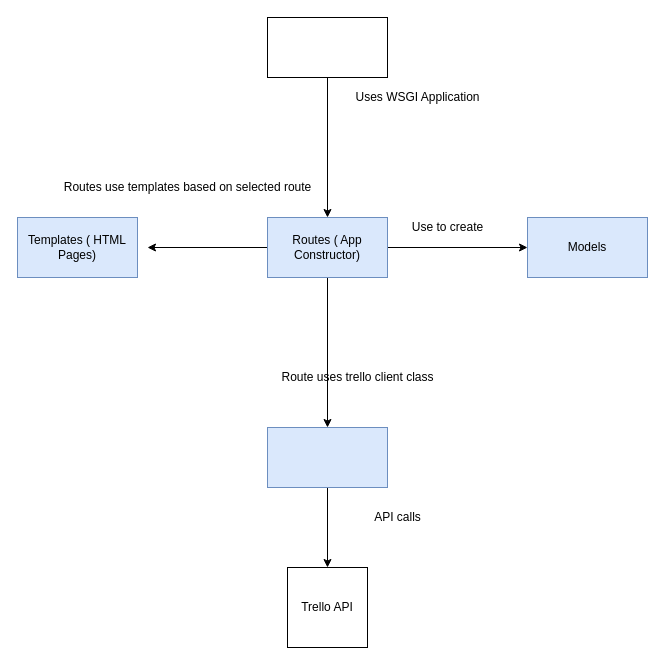
Image size: 665x665. Some labels were removed from this diagram. The centre of each missing label's shape, as x and y in pixels:
"Gunicorn Server" belongs at pixel 327 47.
"Trello client class" belongs at pixel 327 457.
